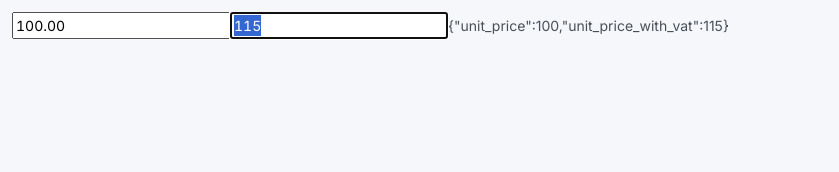
Test: PriceInput › accepts Arabic digits and a decimal comma
Replace the text in the field with test id "inc" with "٢٣٠٫٥" at (339,26), box [230,12,448,39]
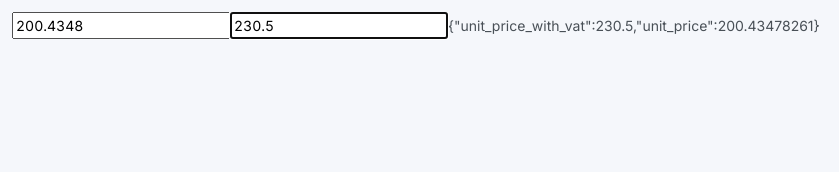
Check: the field with test id "inc" holds "230.5"
Replace the text in the field with test id "inc" with "230,75" at (339,26), box [230,12,448,39]
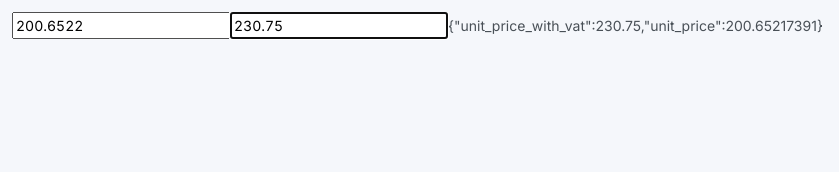
Check: the field with test id "inc" holds "230.75", box [230,12,448,39]
